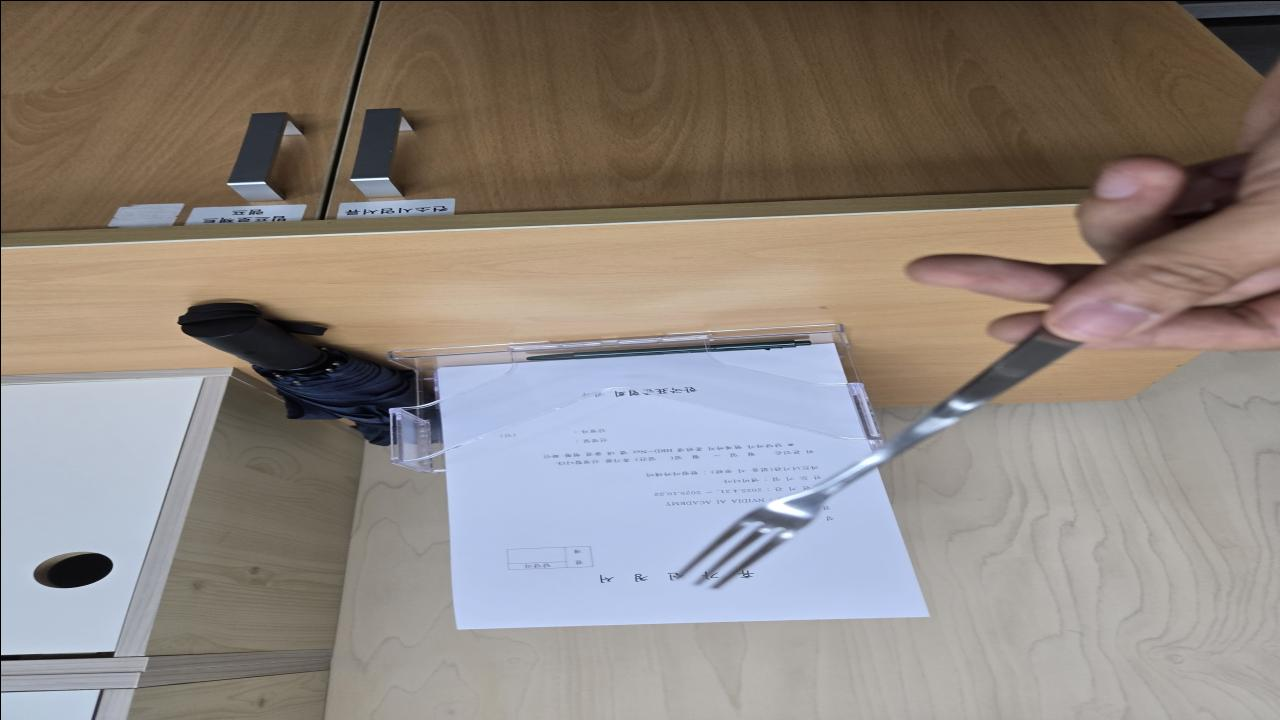fork: (668, 331, 1076, 588)
